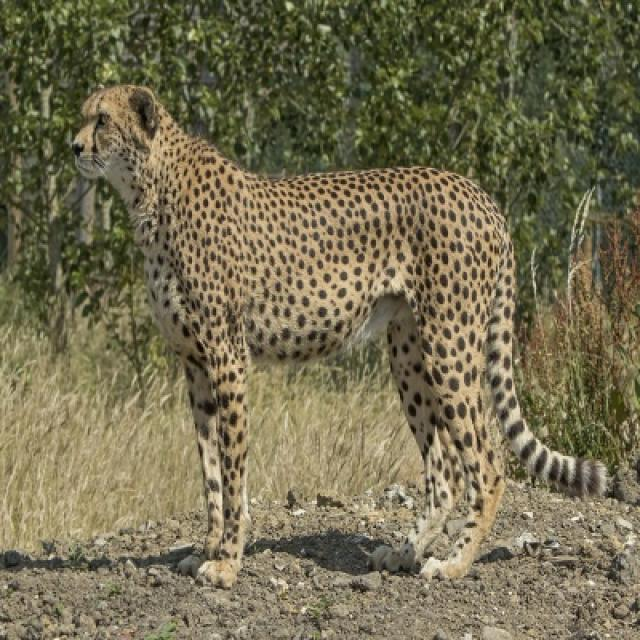Cheetah: (69, 85, 610, 592)
